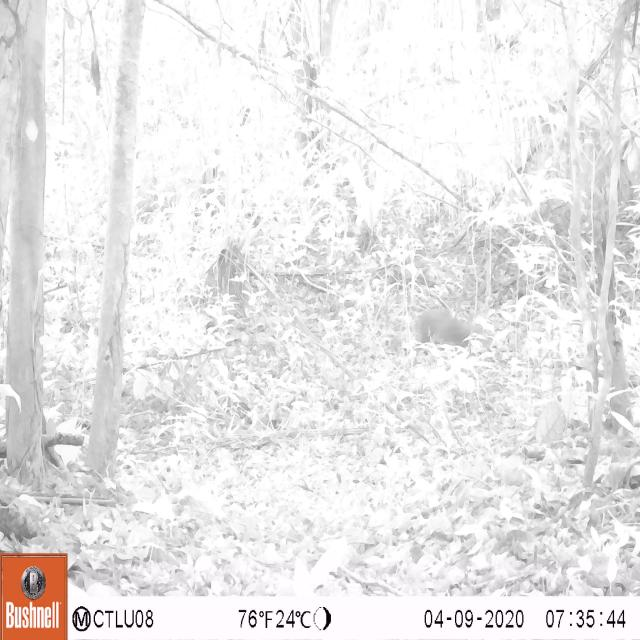Black Agouti: (403, 295, 483, 370)
